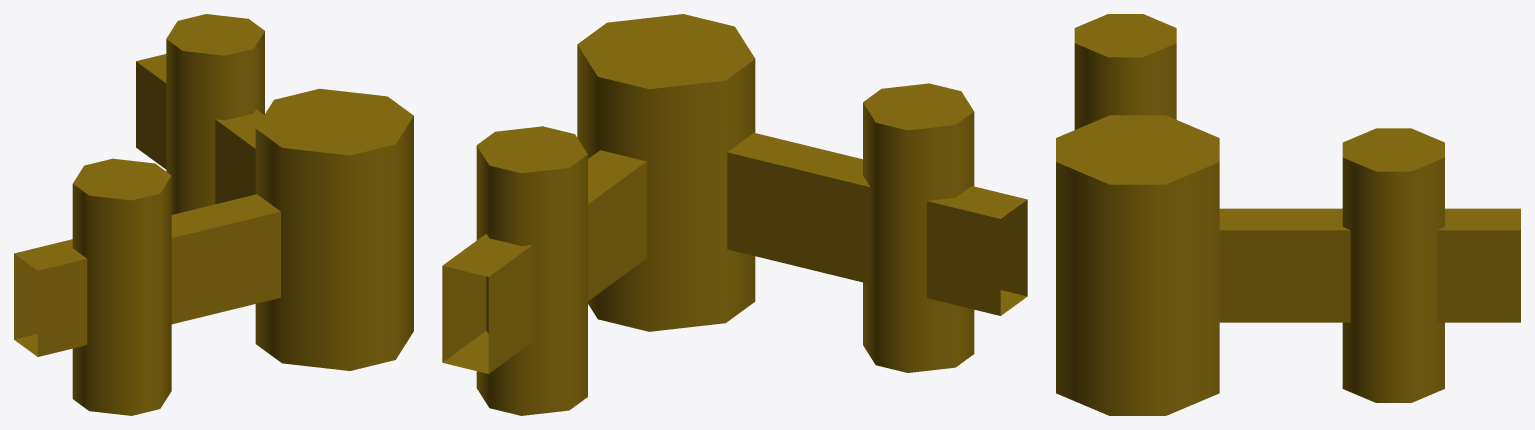
The model's file is pole_fence_01_corner.glb.
3 renders of one model, left to right at view 1: azimuth 30°, elevation 25°; view 2: azimuth 150°, elevation 25°; view 3: azimuth 270°, elevation 25°, orthographic. The views are drawn at different scales.
Parts seen in each view (by area): view 1: coppice_fence_corner_outer.002; view 2: coppice_fence_corner_outer.002; view 3: coppice_fence_corner_outer.002.
Part boxes in pixels (x1,y1,x2,y2): coppice_fence_corner_outer.002: (14,14,413,415); coppice_fence_corner_outer.002: (442,14,1027,415); coppice_fence_corner_outer.002: (1056,14,1520,415).
Bounding box in the file's own units: 1.82 × 1 × 1.82.
